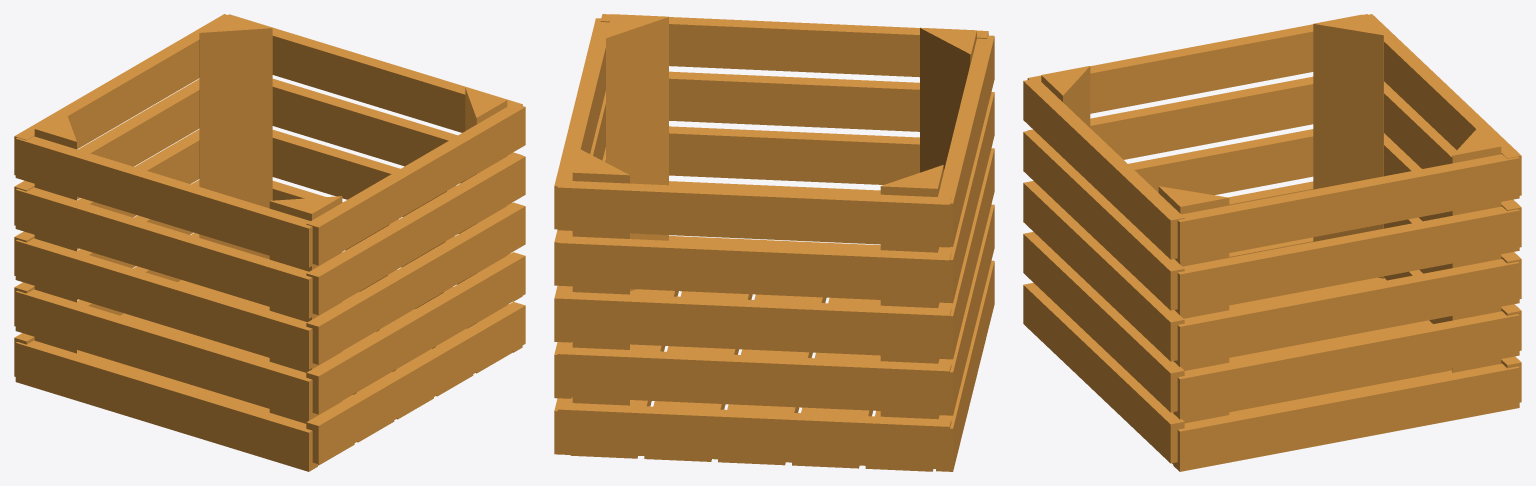
3 views of the same model, side by side, from view 1: azimuth 30°, elevation 25°; view 2: azimuth 150°, elevation 25°; view 3: azimuth 270°, elevation 25° (orthographic). The views are drawn at different scales.
Parts seen in each view (by area): view 1: Cube.077; view 2: Cube.077; view 3: Cube.077.
Part boxes in pixels (box(x1,y1,x2,y2)): Cube.077: box(14, 14, 525, 471); Cube.077: box(554, 14, 994, 471); Cube.077: box(1023, 14, 1521, 471).
Bounding box in the file's own units: 157 × 90.52 × 159.
